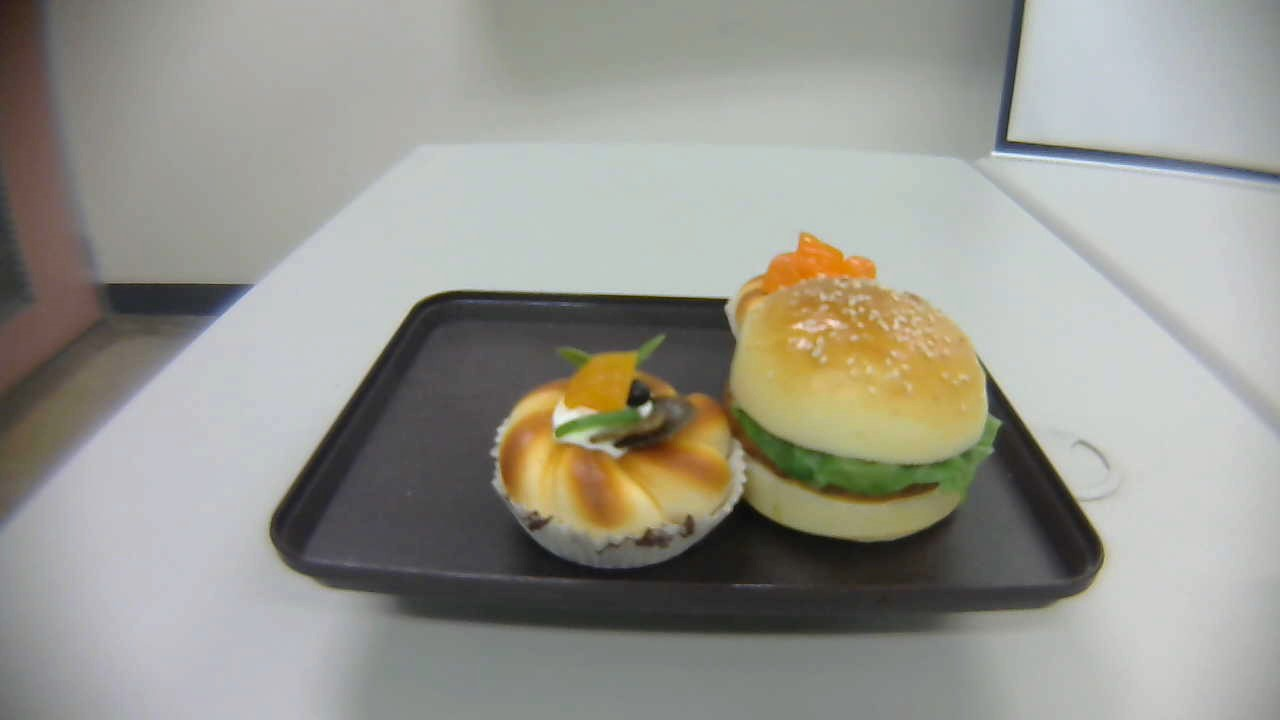fruit tart: (488, 336, 743, 574)
hamburger: (727, 281, 999, 545)
mango tart: (725, 232, 880, 361)
